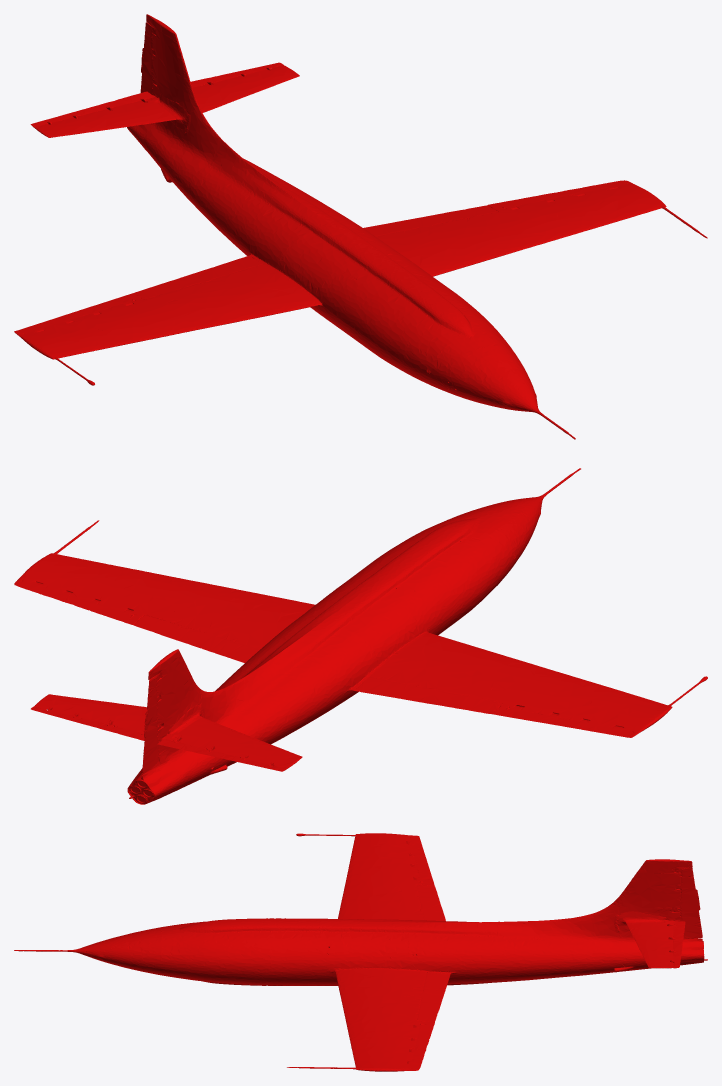
The model's file is Sizzling Robo (1).glb.
3 renders of one model, top to bottom at view 1: azimuth 30°, elevation 25°; view 2: azimuth 150°, elevation 25°; view 3: azimuth 270°, elevation 25°, orthographic. The views are drawn at different scales.
Parts seen in each view (by area): view 1: Mesh_Mesh_head_geo.001_lambert2SG.001; view 2: Mesh_Mesh_head_geo.001_lambert2SG.001; view 3: Mesh_Mesh_head_geo.001_lambert2SG.001.
Boxes of the visible parts, x1,y1,x2,y2 form: Mesh_Mesh_head_geo.001_lambert2SG.001: (14,14,707,439); Mesh_Mesh_head_geo.001_lambert2SG.001: (14,468,707,804); Mesh_Mesh_head_geo.001_lambert2SG.001: (14,833,707,1071).
Bounding box in the file's own units: 0.141 × 0.0339 × 0.173.
